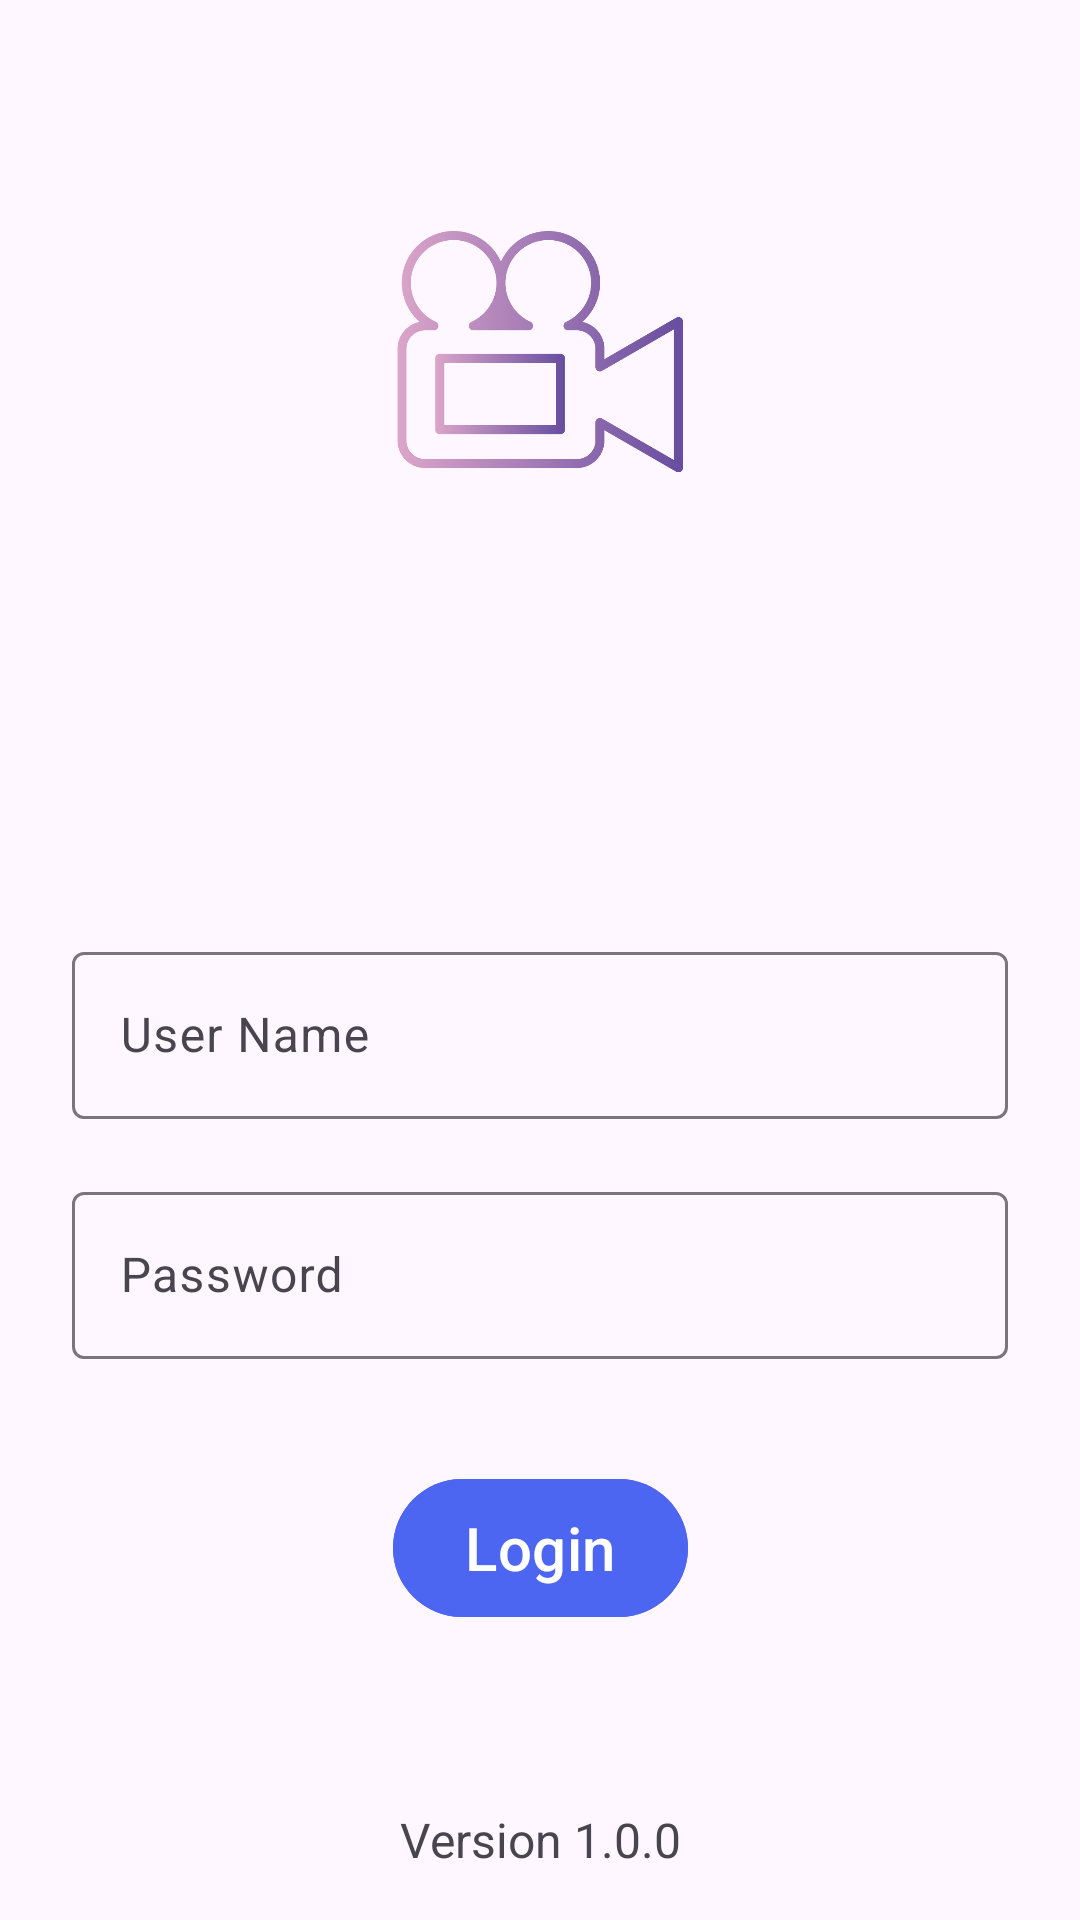

Screen size 1080×1920. Icon name, then its box in pixels as (x1, y1, x2, y2):
video: (397, 231, 683, 472)
